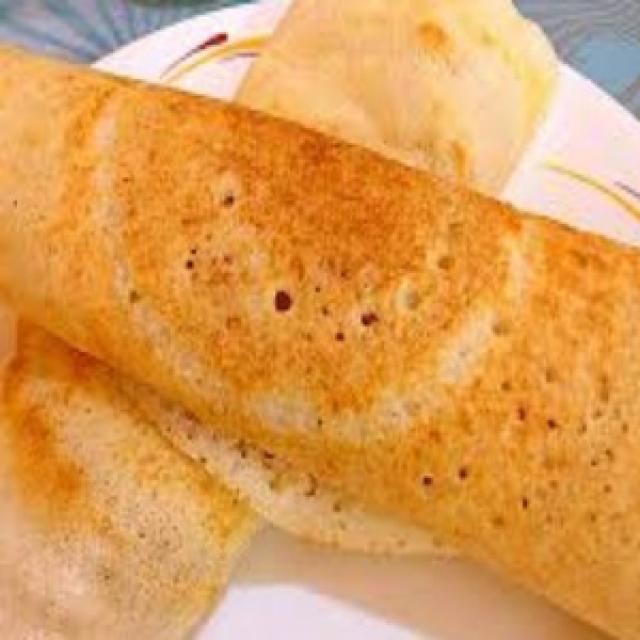dosa: (2, 23, 640, 640)
